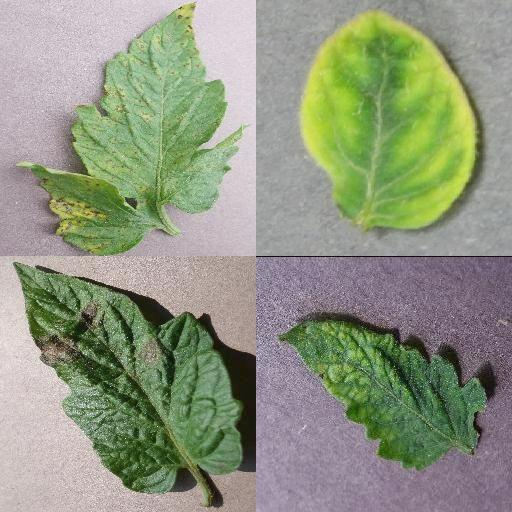Late Blight: (14, 259, 246, 493)
Mosaic Virus: (278, 318, 488, 472)
Septoria: (14, 0, 252, 256)
Yellow Leaf Curl Virus: (300, 7, 480, 229)
